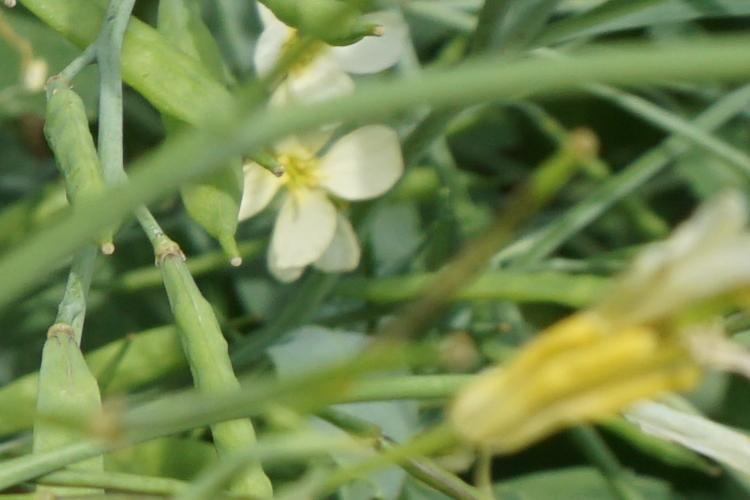pod: (143, 226, 275, 495), (88, 30, 287, 175), (160, 97, 254, 278), (30, 86, 121, 260), (254, 3, 423, 53)
white: (228, 56, 396, 289)
yellow: (502, 259, 718, 452)
